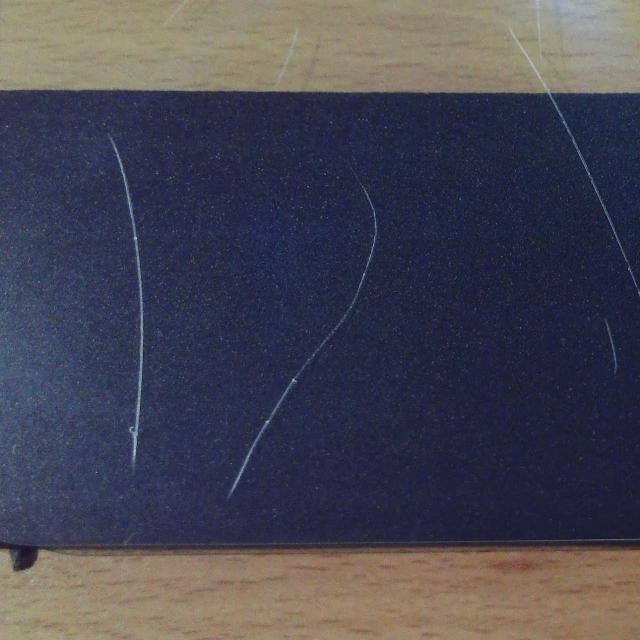defect: (226, 168, 378, 500), (549, 92, 640, 296), (107, 134, 152, 462), (604, 320, 620, 374)
